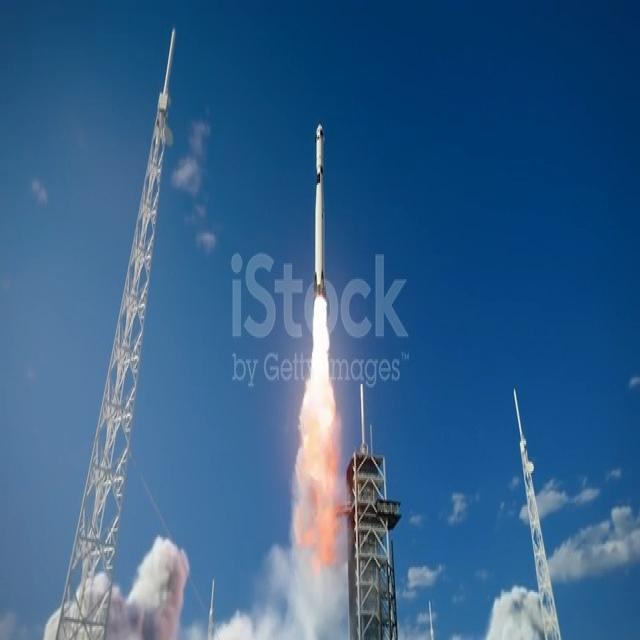missile: (314, 114, 329, 308)
